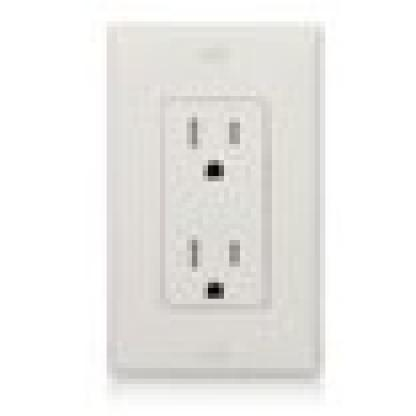OUTLET: (96, 16, 320, 384)
